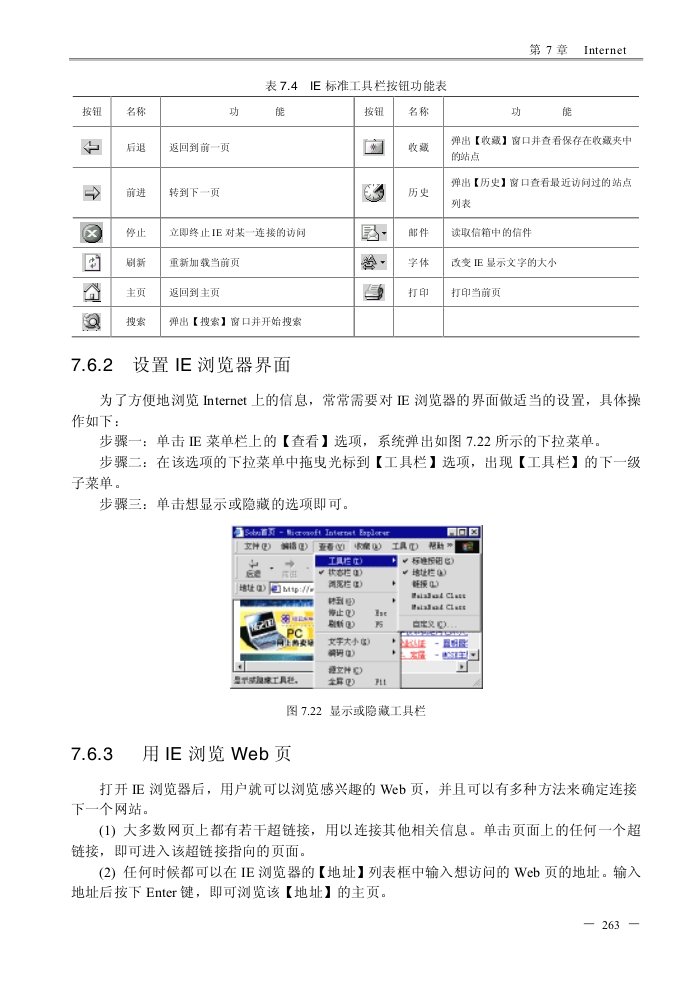table: (71, 95, 639, 338)
